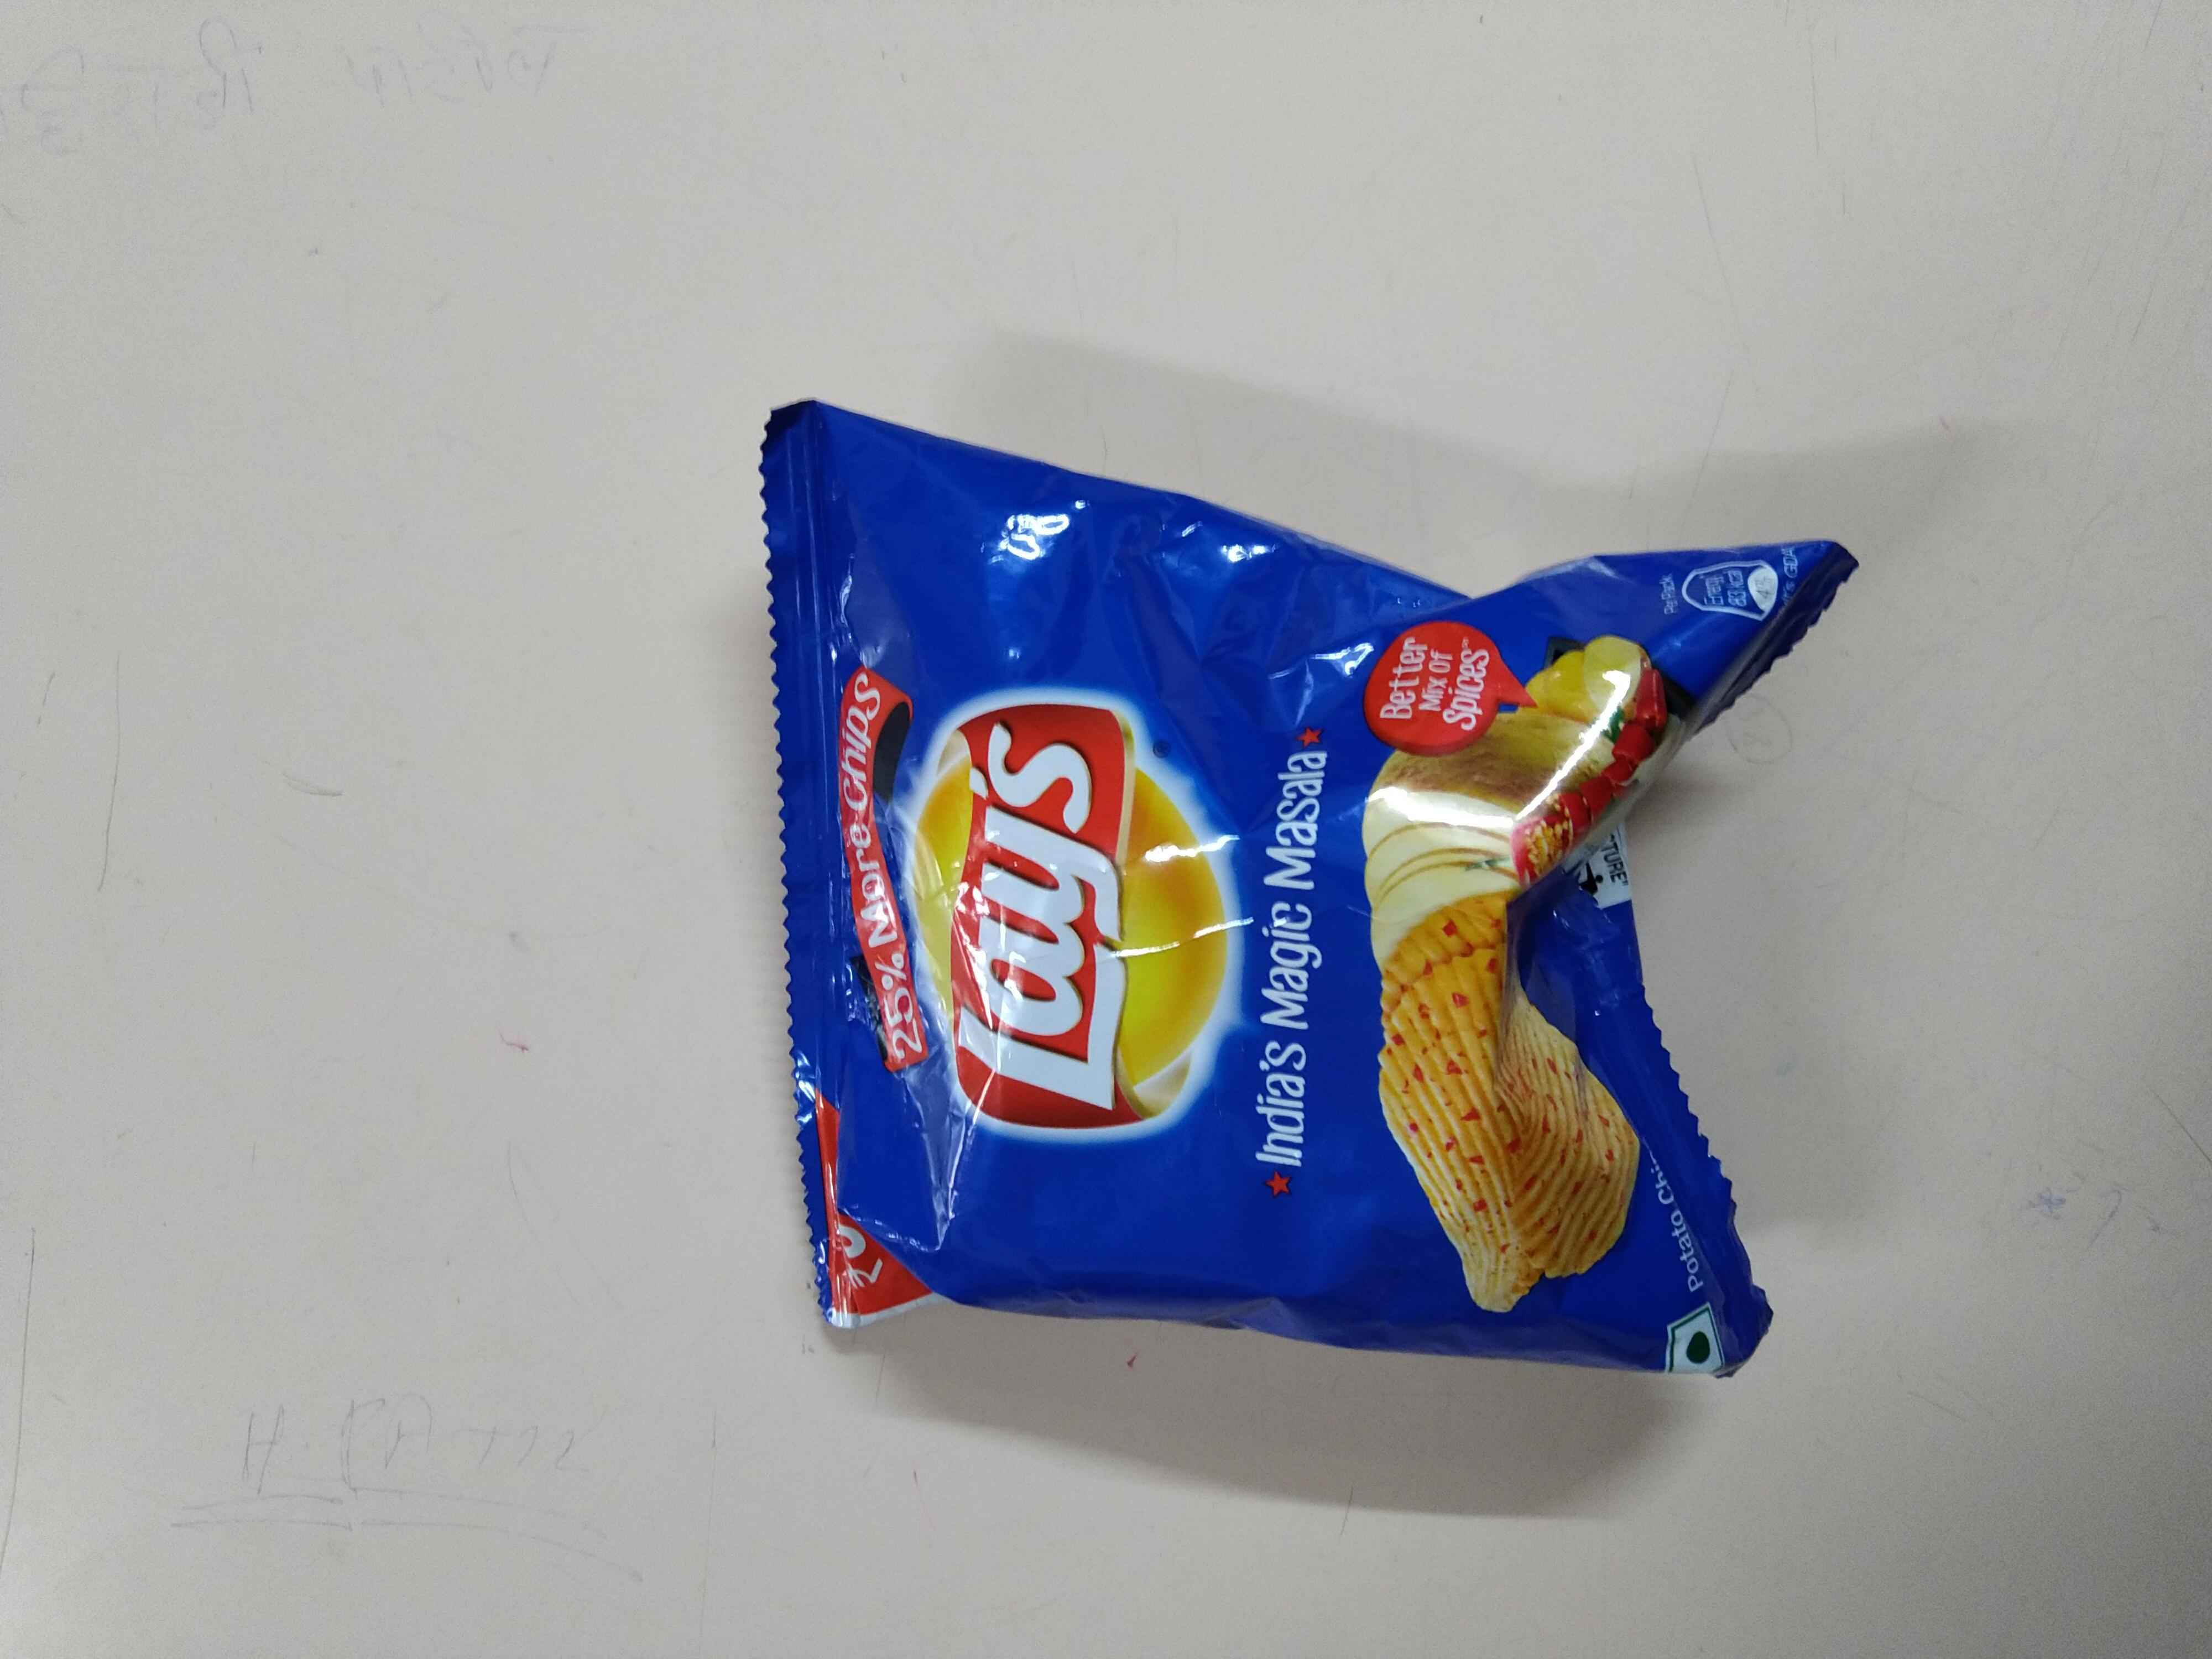Lays: (892, 662, 1233, 1157)
